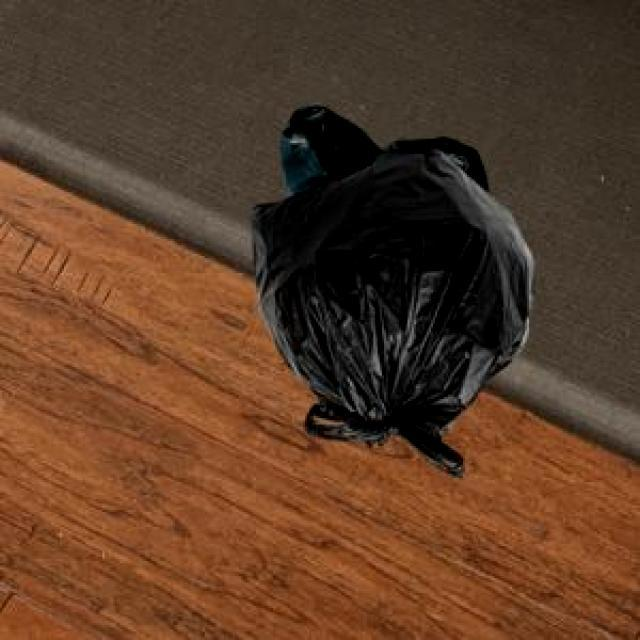Trashbag: (245, 135, 547, 492)
